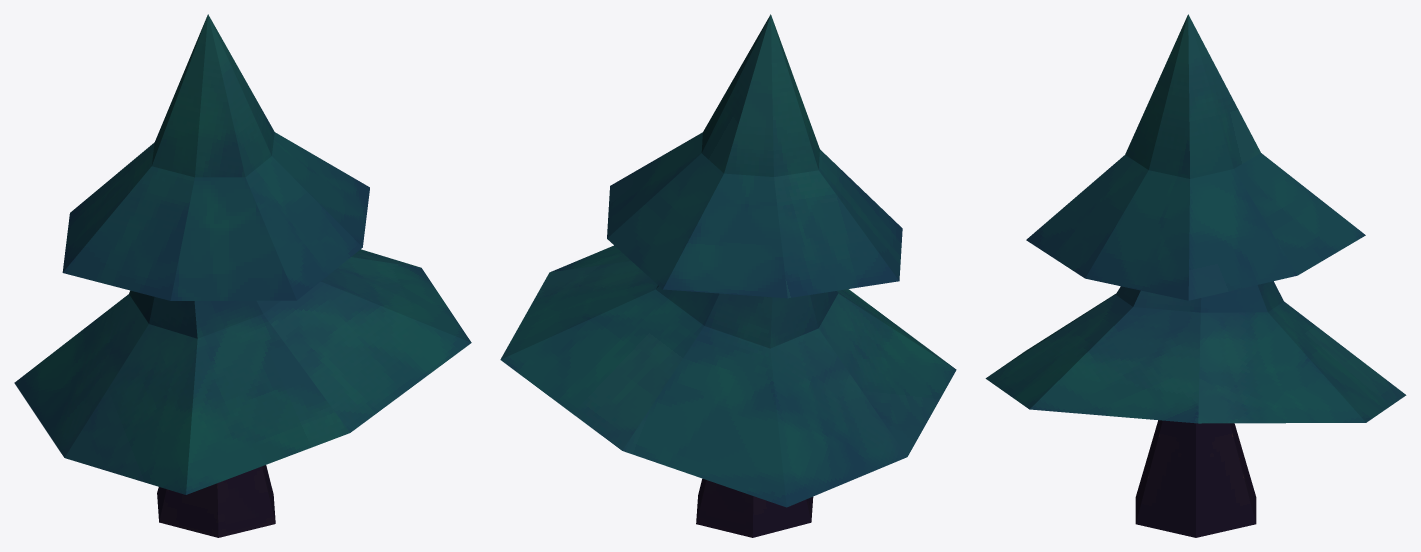
Rendered from Tree1.gltf.
3 views of the same model, side by side, from view 1: azimuth 30°, elevation 25°; view 2: azimuth 150°, elevation 25°; view 3: azimuth 270°, elevation 25° (orthographic).
Parts seen in each view (by area): view 1: pyramid (×2), cylinder; view 2: pyramid (×2), cylinder; view 3: pyramid (×2), cylinder.
Boxes of the visible parts, <box> form: pyramid (×2): <box>14,14,471,494</box>; cylinder: <box>157,465,275,537</box>; pyramid (×2): <box>500,14,956,507</box>; cylinder: <box>696,478,813,537</box>; pyramid (×2): <box>985,14,1406,423</box>; cylinder: <box>1135,420,1256,537</box>.
Size of the model in its own units: 1.69 by 2.25 by 1.75.
1 material, 1 textured.
